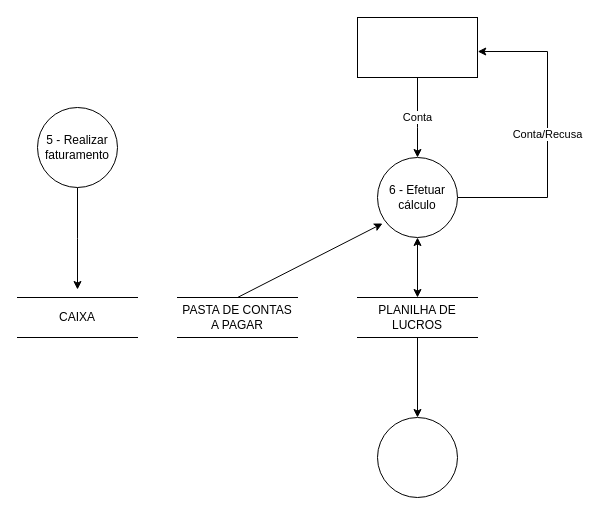
This 600x515 diagram has some shape labels left out. Here are the shapes that lost their labels. From the top down, the box of each, then its label:
(356, 16, 478, 78): Contador
(376, 416, 458, 498): 7 - Criar implementar plano de ação
